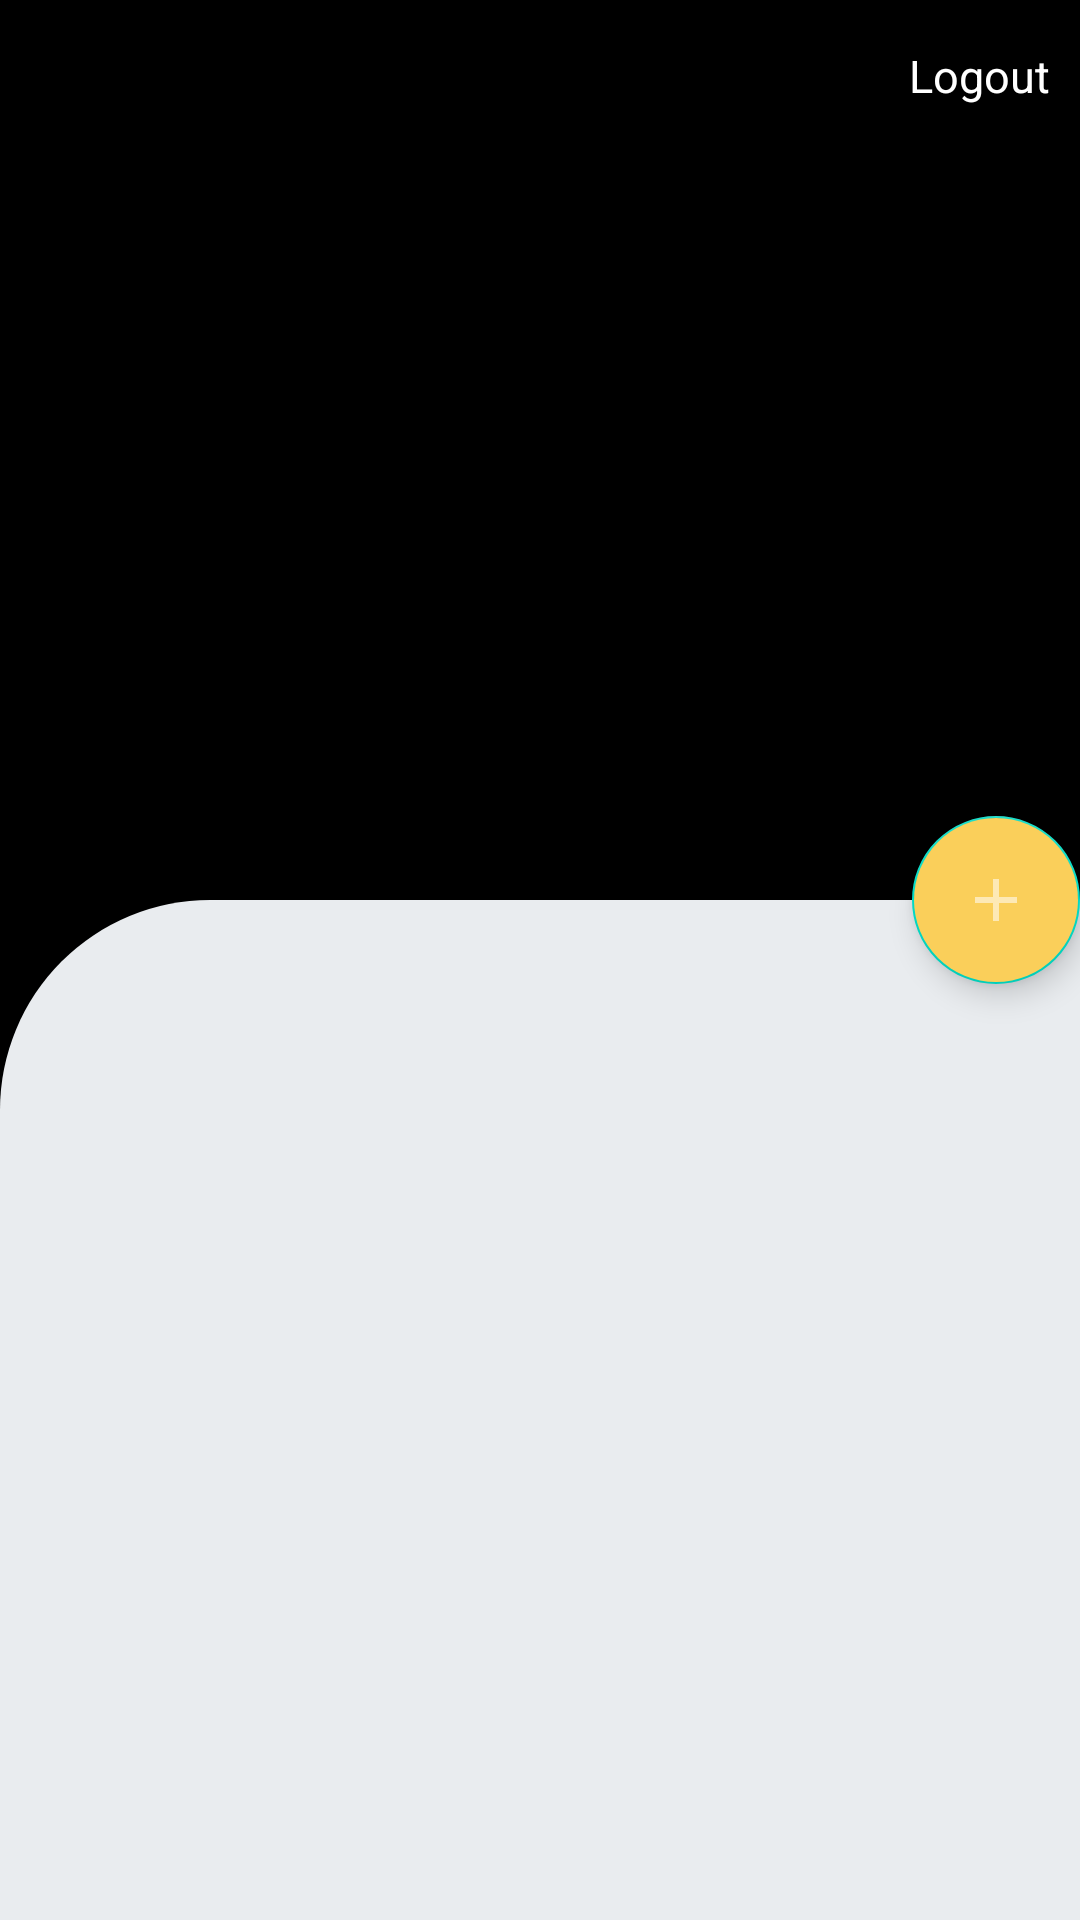

Named icons in this screenshot (1080x1920) and their centers, (x,y):
add: (996,900)
